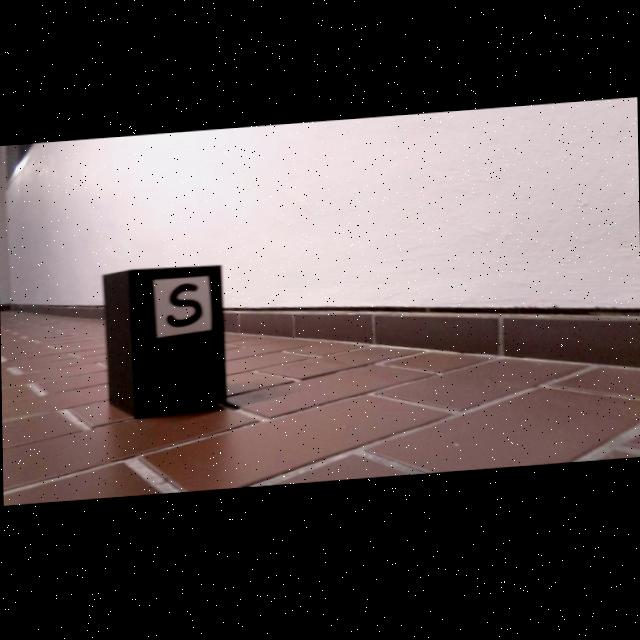S: (166, 286, 201, 331)
